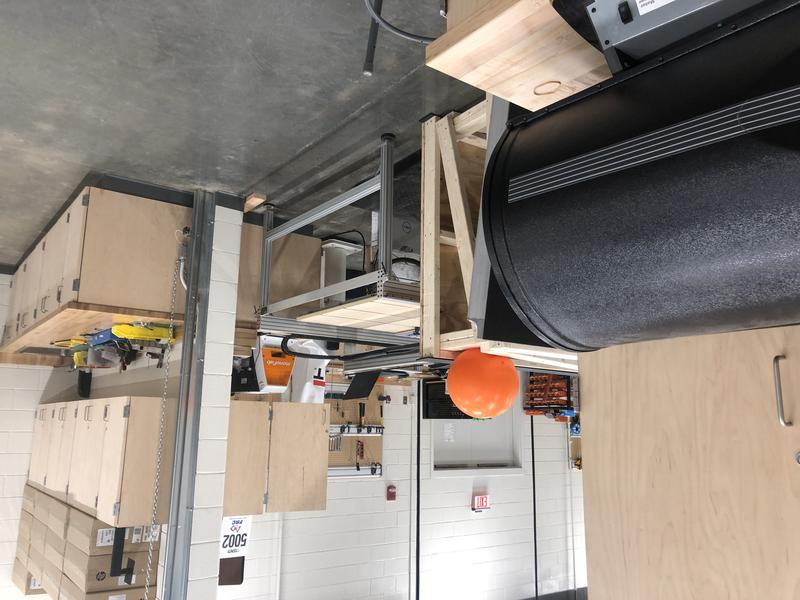ball: (448, 347, 521, 418)
